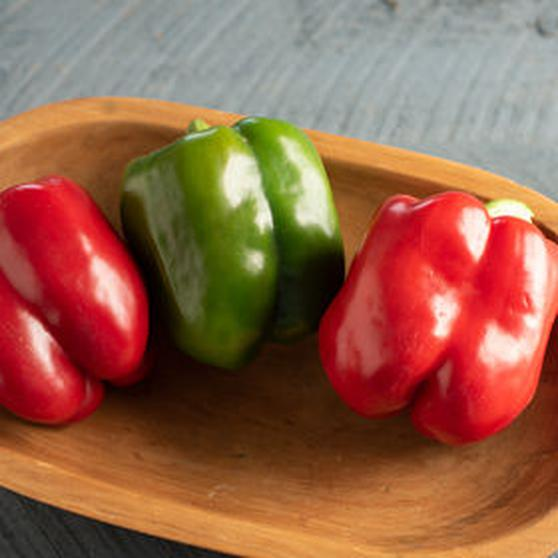pepper: (327, 193, 554, 439), (2, 176, 150, 421)
